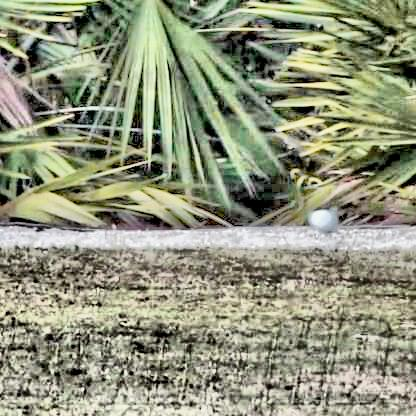golfball: (304, 207, 337, 235)
